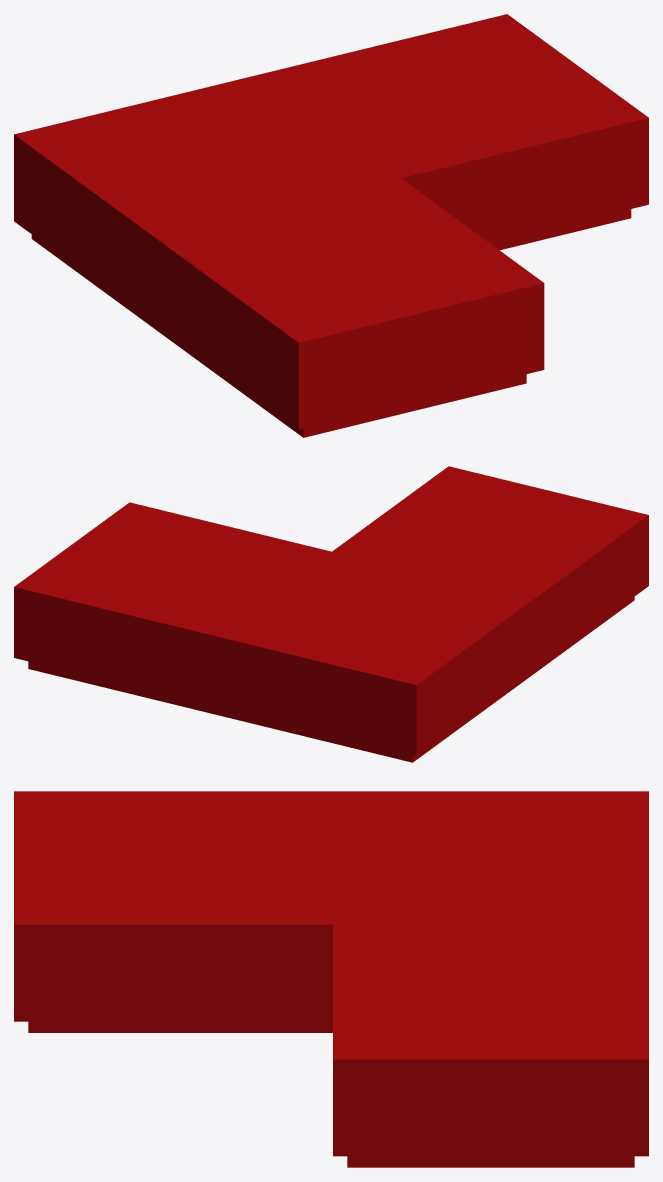
File: 14719 flat tile corner 2x2.dae
3 renders of one model, top to bottom at view 1: azimuth 30°, elevation 25°; view 2: azimuth 150°, elevation 25°; view 3: azimuth 270°, elevation 25°, orthographic. The views are drawn at different scales.
Visible parts, largest first — view 1: Part_14719.1; view 2: Part_14719.1; view 3: Part_14719.1.
Boxes of the visible parts, left/top/right/bottom form: Part_14719.1: left=14, top=14, right=648, bottom=437; Part_14719.1: left=14, top=466, right=648, bottom=762; Part_14719.1: left=14, top=791, right=648, bottom=1167.
Bounding box in the file's own units: 15.92 × 3.16 × 15.92.
